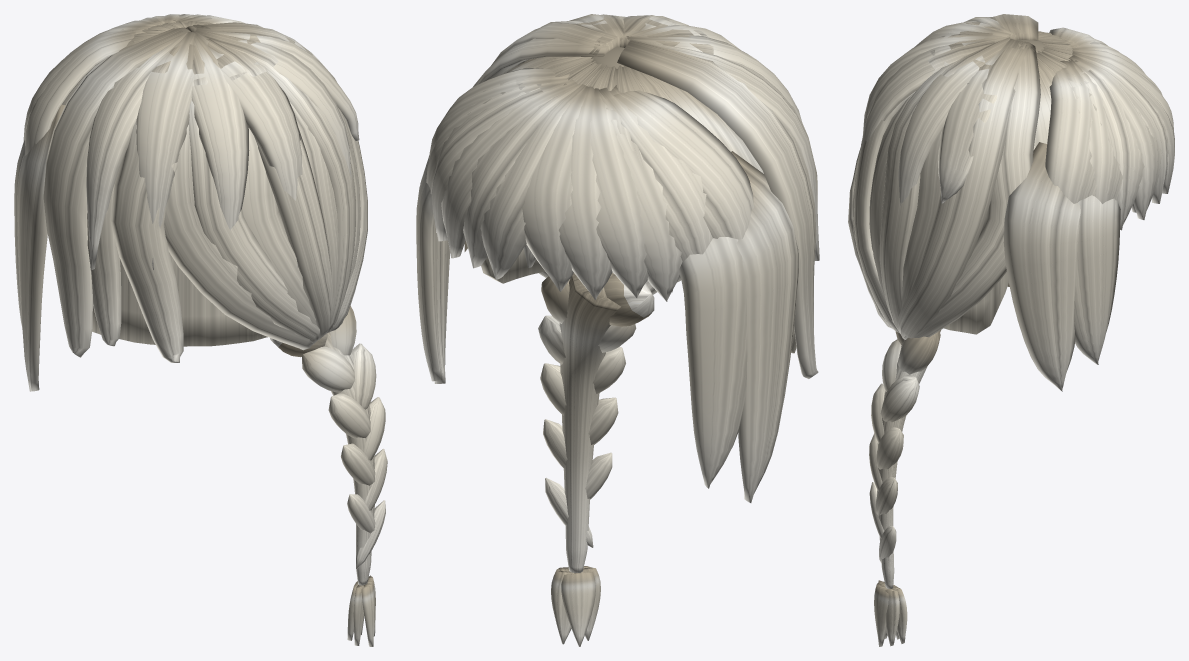
Rendered from isabelle_hair.fbx.
3 views of the same model, side by side, from view 1: azimuth 30°, elevation 25°; view 2: azimuth 150°, elevation 25°; view 3: azimuth 270°, elevation 25° (orthographic). The views are drawn at different scales.
Visible parts, largest first — view 1: IsabelleHair; view 2: IsabelleHair; view 3: IsabelleHair.
Boxes of the visible parts, x1,y1,x2,y2 form: IsabelleHair: (14, 14, 387, 646); IsabelleHair: (416, 14, 819, 646); IsabelleHair: (848, 14, 1174, 646).
Bounding box in the file's own units: 179 × 332 × 176.
1 material, 1 textured.
